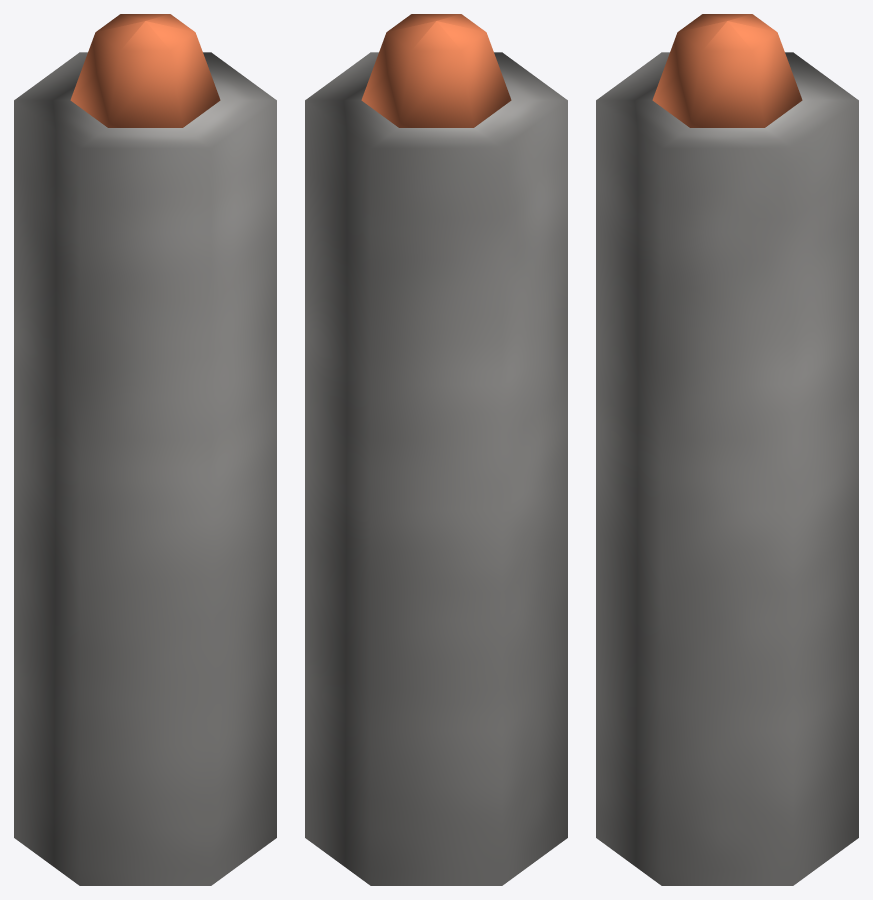
File: lamp_cell_l1.gltf
The picture shows the model from 3 angles, left to right: view 1: azimuth 30°, elevation 25°; view 2: azimuth 150°, elevation 25°; view 3: azimuth 270°, elevation 25°; orthographic projection.
Visible parts, largest first — view 1: lamp_cell_l1; view 2: lamp_cell_l1; view 3: lamp_cell_l1.
Part boxes in pixels (bbox=[...]): lamp_cell_l1: bbox=[14, 14, 276, 885]; lamp_cell_l1: bbox=[305, 14, 567, 885]; lamp_cell_l1: bbox=[596, 14, 858, 885].
Bounding box in the file's own units: 0.0182 × 0.072 × 0.021.
2 materials, 2 textured.
